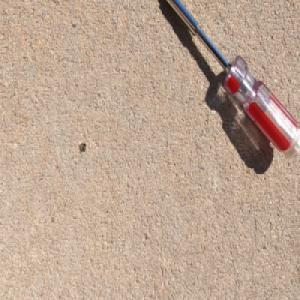Screwdriver: (162, 0, 300, 161)
